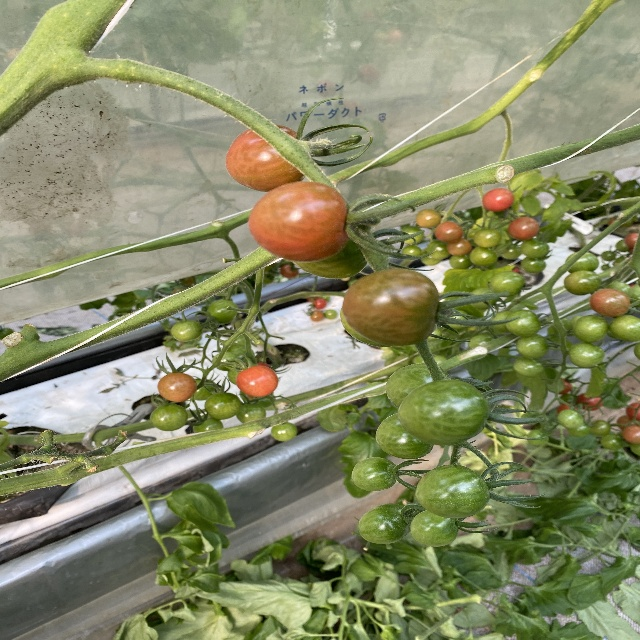l_fully_ripened: (236, 366, 278, 397), (507, 216, 540, 239), (482, 188, 514, 211)
l_green: (397, 379, 488, 446), (415, 465, 490, 518), (290, 236, 369, 279), (385, 362, 452, 408), (374, 413, 434, 459), (358, 504, 415, 544), (410, 510, 459, 547), (351, 458, 398, 491), (204, 392, 242, 420), (150, 403, 188, 431), (505, 309, 540, 338), (563, 270, 602, 296), (573, 316, 607, 343), (490, 271, 525, 297), (569, 343, 605, 367), (516, 333, 549, 359), (207, 299, 238, 325), (610, 315, 640, 341), (564, 252, 599, 274), (171, 320, 204, 342), (235, 403, 266, 424), (513, 356, 543, 376), (520, 238, 549, 258), (556, 409, 585, 429), (271, 421, 297, 442), (473, 228, 501, 247), (190, 379, 214, 401), (427, 238, 452, 259), (470, 247, 497, 266), (211, 352, 238, 371), (192, 418, 224, 433), (520, 257, 547, 273), (449, 255, 473, 269)
l_half_ripened: (247, 181, 351, 262), (342, 269, 440, 345), (224, 125, 312, 193), (157, 372, 198, 402), (589, 288, 631, 316), (434, 222, 462, 243), (416, 209, 441, 228), (446, 238, 472, 256)
